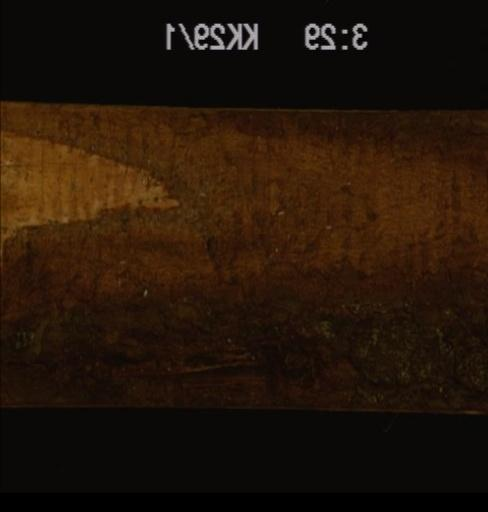wave: (0, 108, 486, 409)
